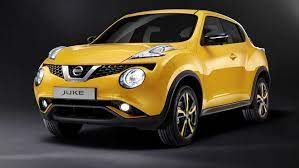Nissan: (36, 9, 269, 144)
